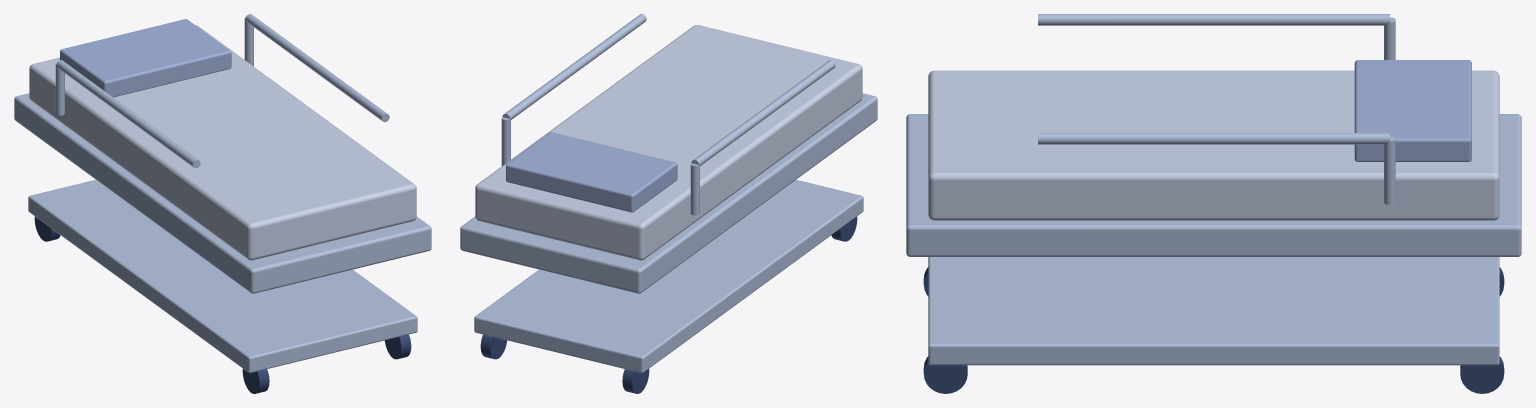
File: bed.glb
3 views of the same model, side by side, from view 1: azimuth 30°, elevation 25°; view 2: azimuth 150°, elevation 25°; view 3: azimuth 270°, elevation 25° (orthographic). The views are drawn at different scales.
Parts seen in each view (by area): view 1: mattress, base, bed frame, pillow, rail (×4), caster (×2); view 2: mattress, base, bed frame, pillow, rail (×4), caster (×2); view 3: mattress, base, bed frame, pillow, rail (×3), caster (×2).
Boxes of the visible parts, x1=… form: mattress: x1=29, y1=25, x2=416, y2=260; base: x1=28, y1=179, x2=417, y2=373; bed frame: x1=14, y1=93, x2=431, y2=293; pillow: x1=60, y1=19, x2=231, y2=97; rail (×4): x1=55, y1=14, x2=389, y2=168; caster (×2): x1=242, y1=334, x2=411, y2=393; mattress: x1=475, y1=25, x2=862, y2=260; base: x1=474, y1=179, x2=863, y2=373; bed frame: x1=460, y1=93, x2=877, y2=293; pillow: x1=506, y1=132, x2=677, y2=212; rail (×4): x1=501, y1=14, x2=835, y2=215; caster (×2): x1=480, y1=334, x2=649, y2=393; mattress: x1=928, y1=70, x2=1499, y2=220; base: x1=928, y1=257, x2=1499, y2=365; bed frame: x1=906, y1=114, x2=1521, y2=256; pillow: x1=1354, y1=60, x2=1471, y2=161; rail (×3): x1=1038, y1=14, x2=1395, y2=204; caster (×2): x1=923, y1=356, x2=1504, y2=393.
Size of the model in its own units: 1 by 1.03 by 2.1.
